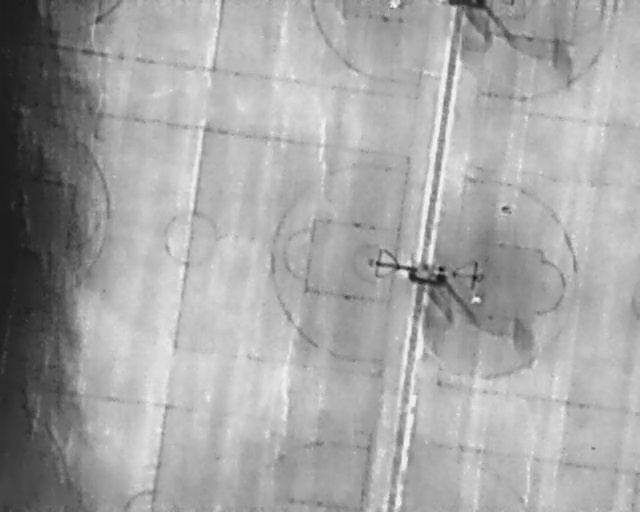Person: (468, 292, 482, 305), (501, 202, 513, 215)
